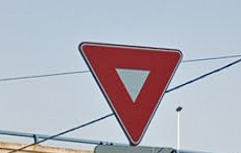cedeaza: (77, 40, 184, 145)
